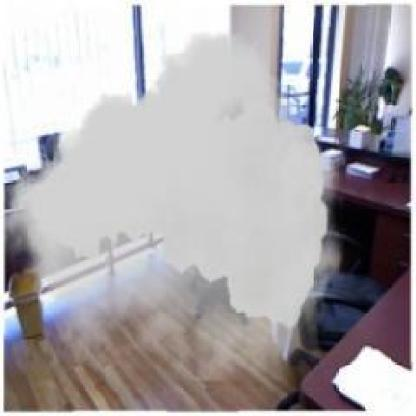Smoke: (4, 32, 343, 382)
